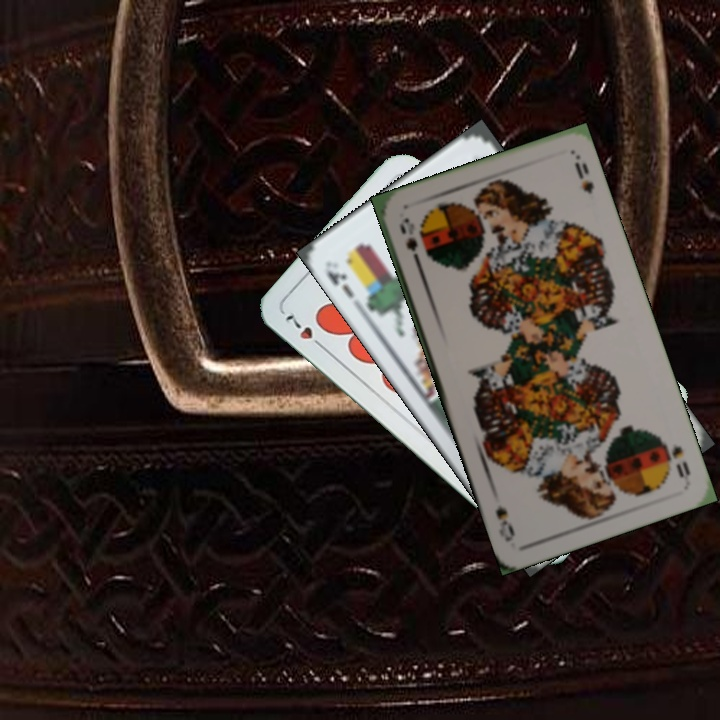EK: (320, 262, 357, 300)
H7: (281, 310, 329, 353)
SO: (395, 213, 424, 270), (660, 437, 693, 484)
